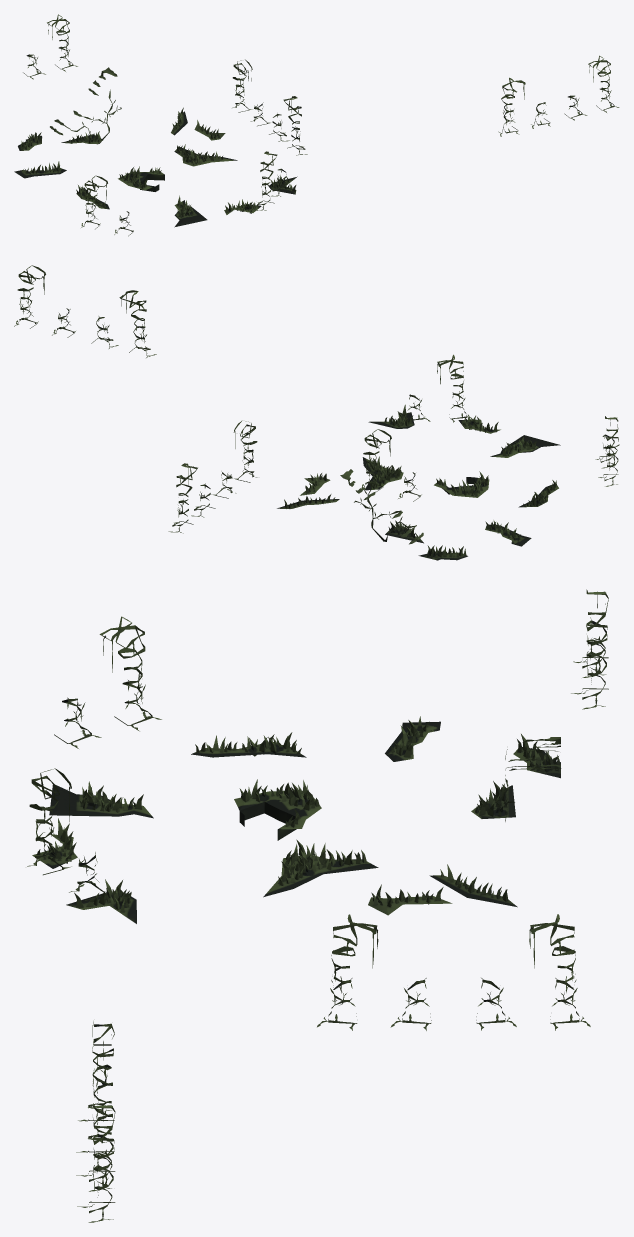
File: Plant_01.FBX
The picture shows the model from 3 angles, top to bottom: view 1: azimuth 30°, elevation 25°; view 2: azimuth 150°, elevation 25°; view 3: azimuth 270°, elevation 25°; orthographic projection. The views are drawn at different scales.
Parts seen in each view (by area): view 1: Plant_01; view 2: Plant_01; view 3: Plant_01.
Boxes of the visible parts, x1,y1,x2,y2 form: Plant_01: [14, 14, 619, 236]; Plant_01: [14, 265, 619, 560]; Plant_01: [27, 589, 608, 1222].
Size of the model in its own units: 47.52 by 11.27 by 22.81.
